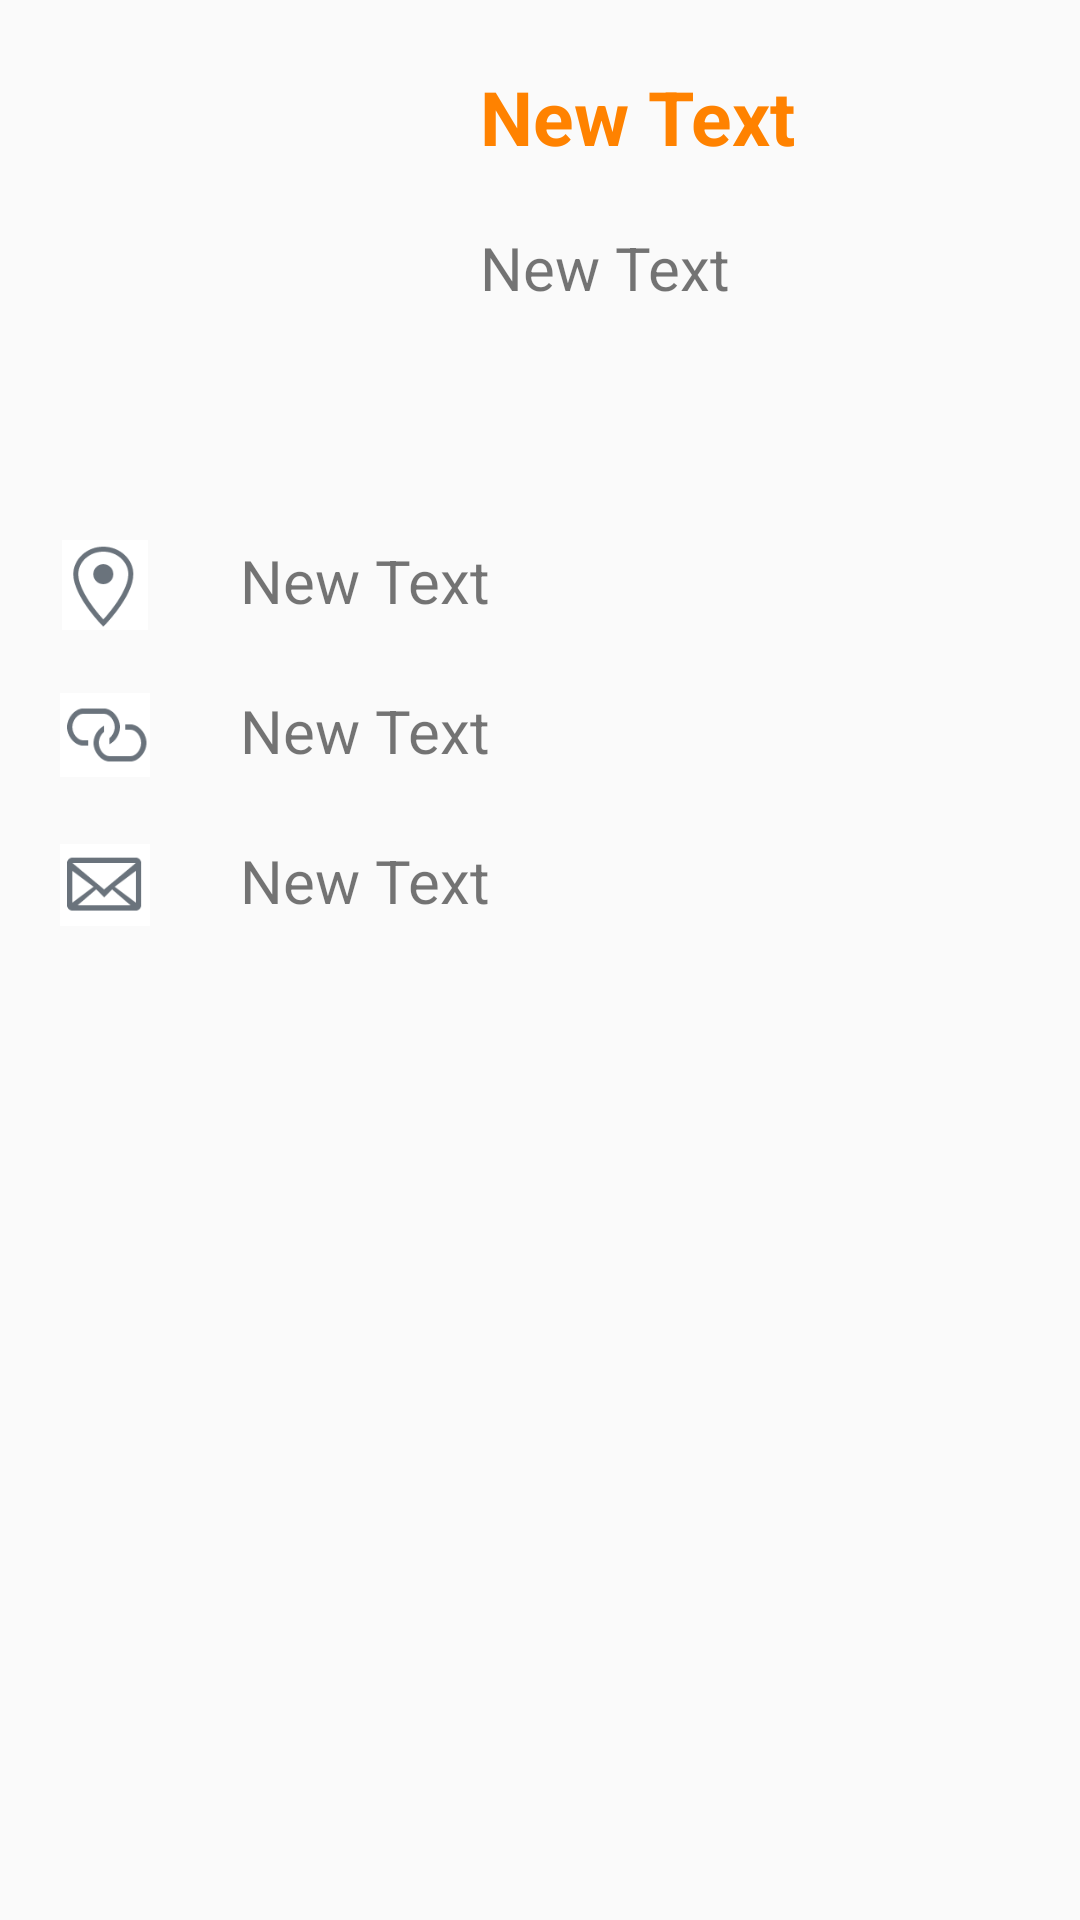

Named icons in this screenshot (1080px×1920px) and their centers, (x,y):
email: (104,884)
location: (103,586)
url: (107,735)
